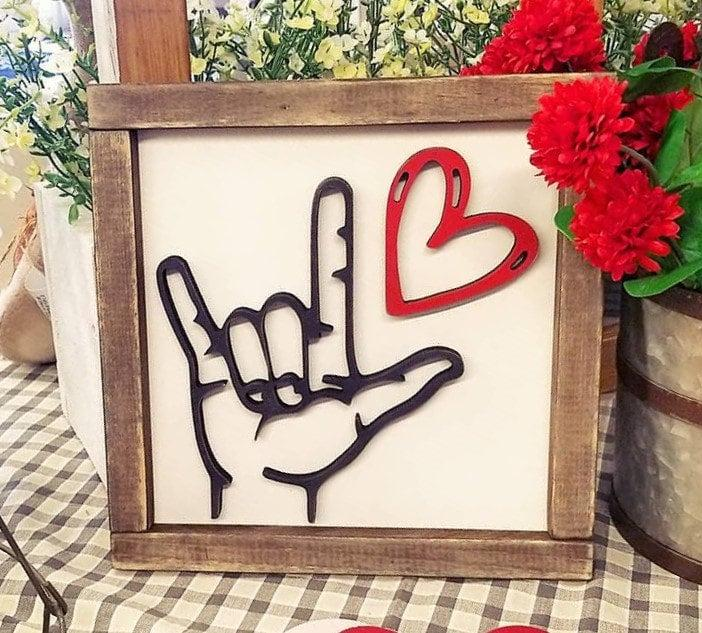Love_you: (160, 165, 459, 539)
